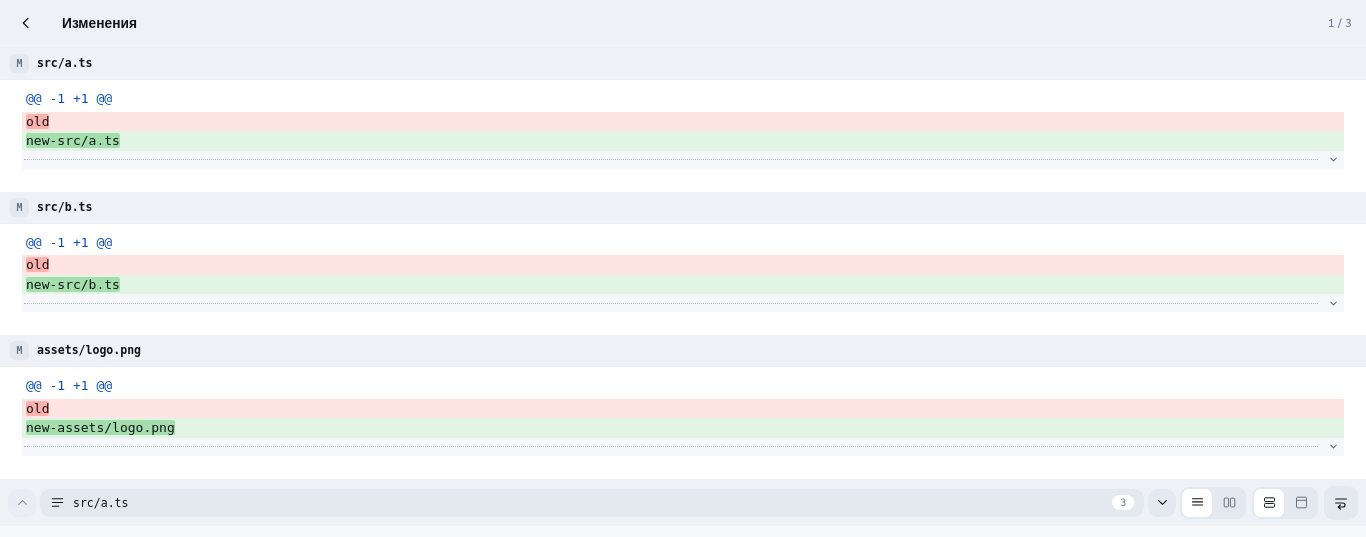
GitDiffStage › steps through files with the bottom arrows
Expected: the text "1 / 3" is shown, [1328,16,1352,30]
What coordinates should you click on to do the following:
click the button named "Следующий файл"
I would click on:
 (1162, 502)
Its box is [1148,488,1176,516].
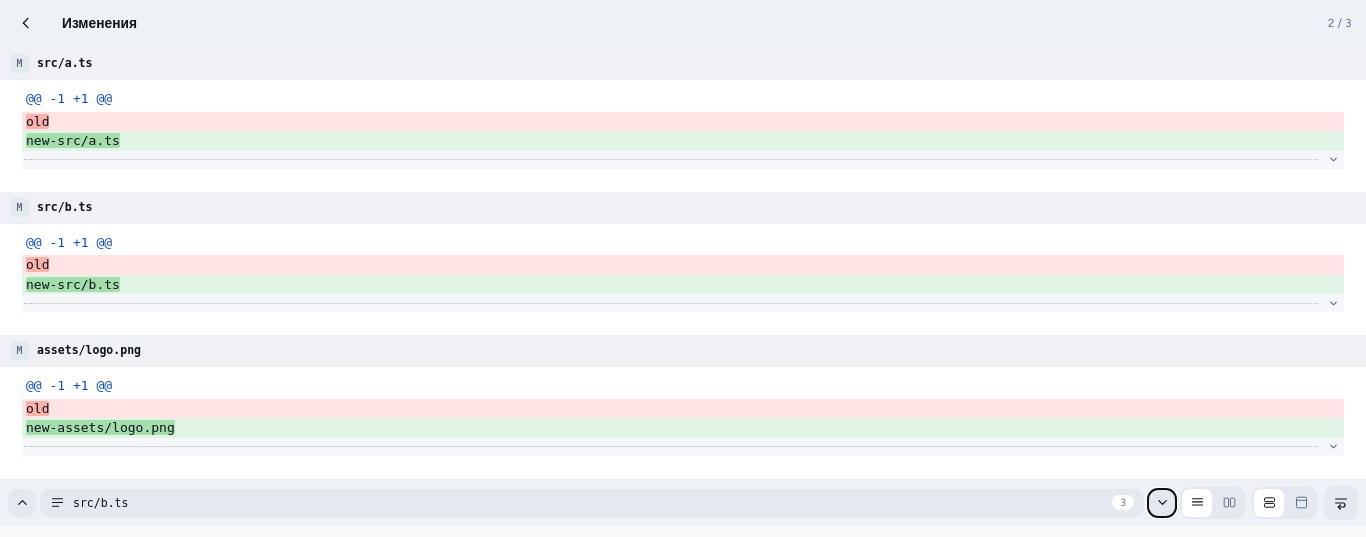
Expected: the text "2 / 3" is shown, [1328,16,1352,30]
What coordinates should you click on to do the following:
click the button named "Предыдущий файл"
I would click on:
 (22, 502)
Its box is [8,488,36,516].
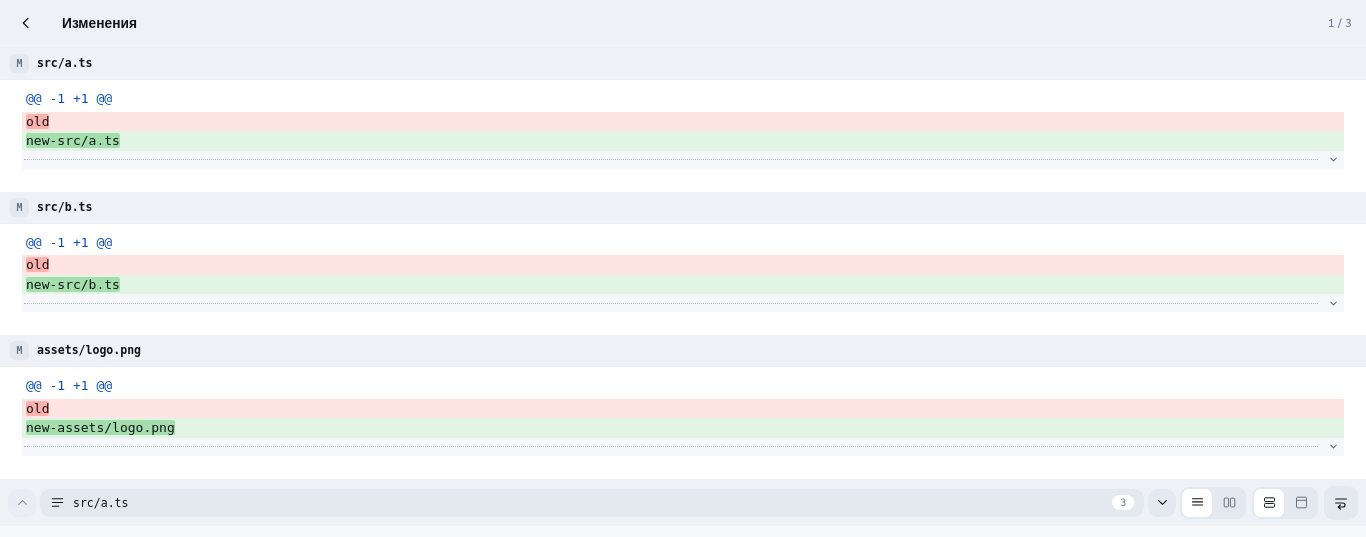
Expected: the text "1 / 3" is shown, [1328,16,1352,30]
